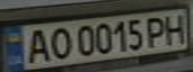0: (72, 22, 96, 56), (93, 20, 115, 55)
1: (109, 18, 130, 52)
5: (124, 16, 148, 51)
A: (21, 27, 54, 64)
H: (160, 11, 190, 45)
O: (45, 25, 72, 61)
P: (142, 14, 172, 48)
